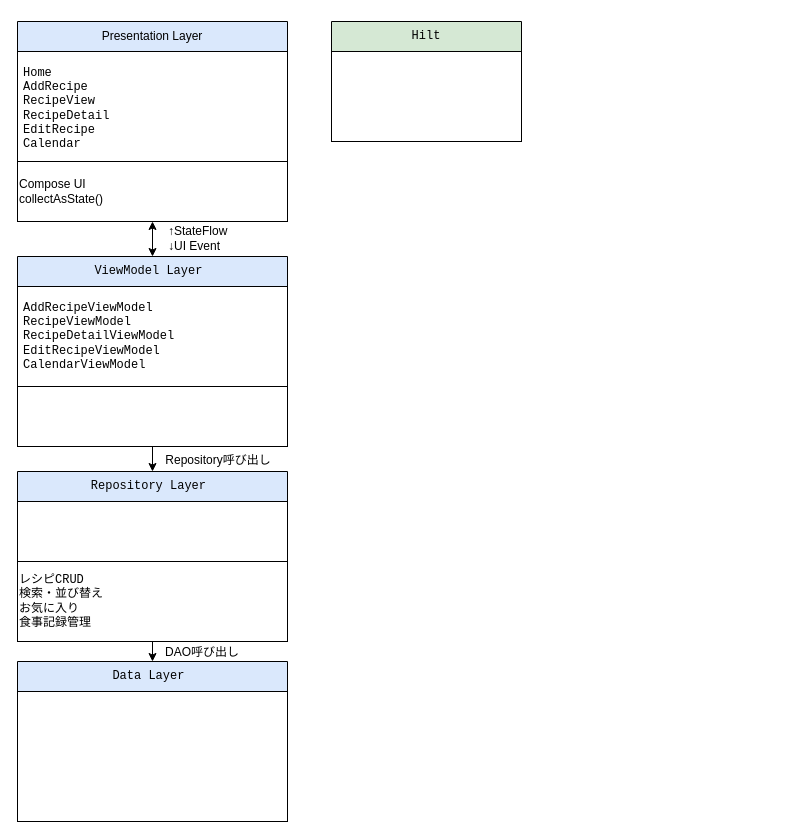
This 810x839 diagram has some shape labels left out. The centre of each missing label's shape, as x and y in pixels:
@HiltAndroidApp DatabaseModule RepositoryModule Dependency Injection: the point at 426,96
RecipeDao MealRecordDao RecipeDatabase (Room) Entity ・Recipe ・MealRecord: the point at 152,756
RecipeRepository RecipeRepositoryImpl: the point at 152,531
UI状態管理 入力チェック: the point at 152,416
